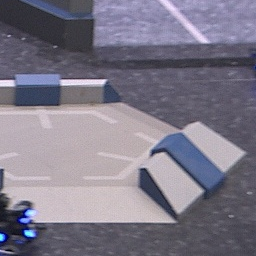Robot: (1, 187, 41, 254)
